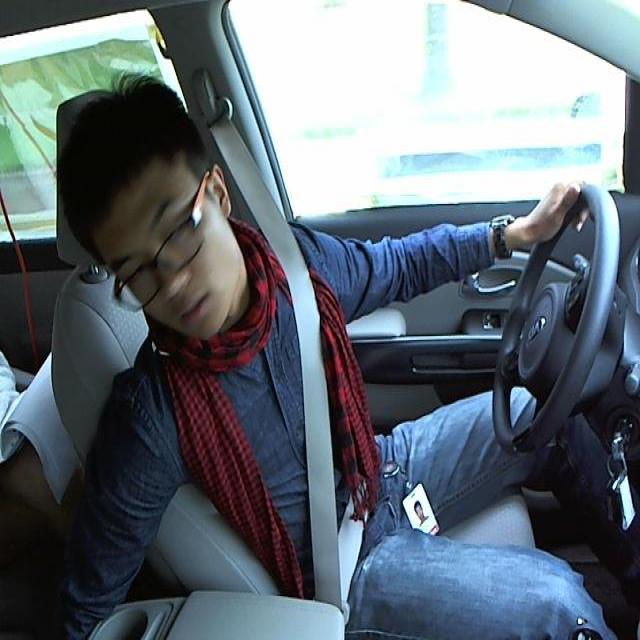seatbelt: (259, 252, 373, 588)
